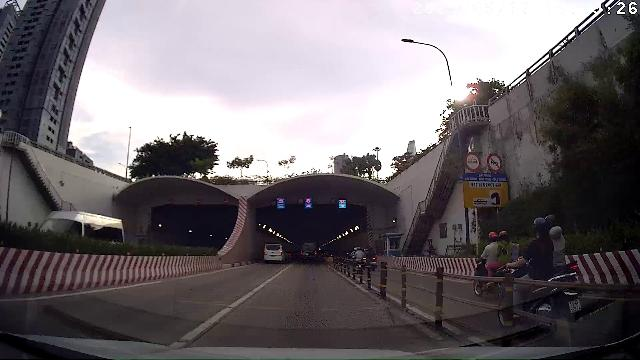128-cam-su-dung-coi: (487, 152, 503, 172)
